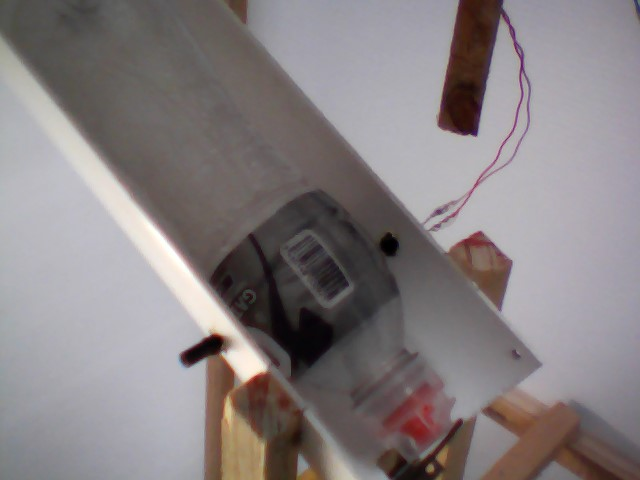plastico: (26, 1, 467, 469)
